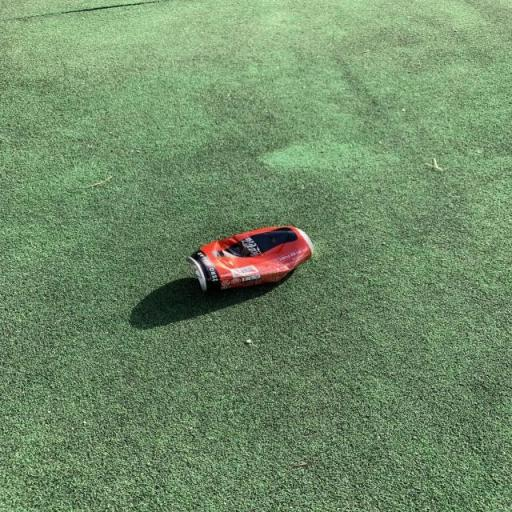metal: (173, 209, 336, 313)
